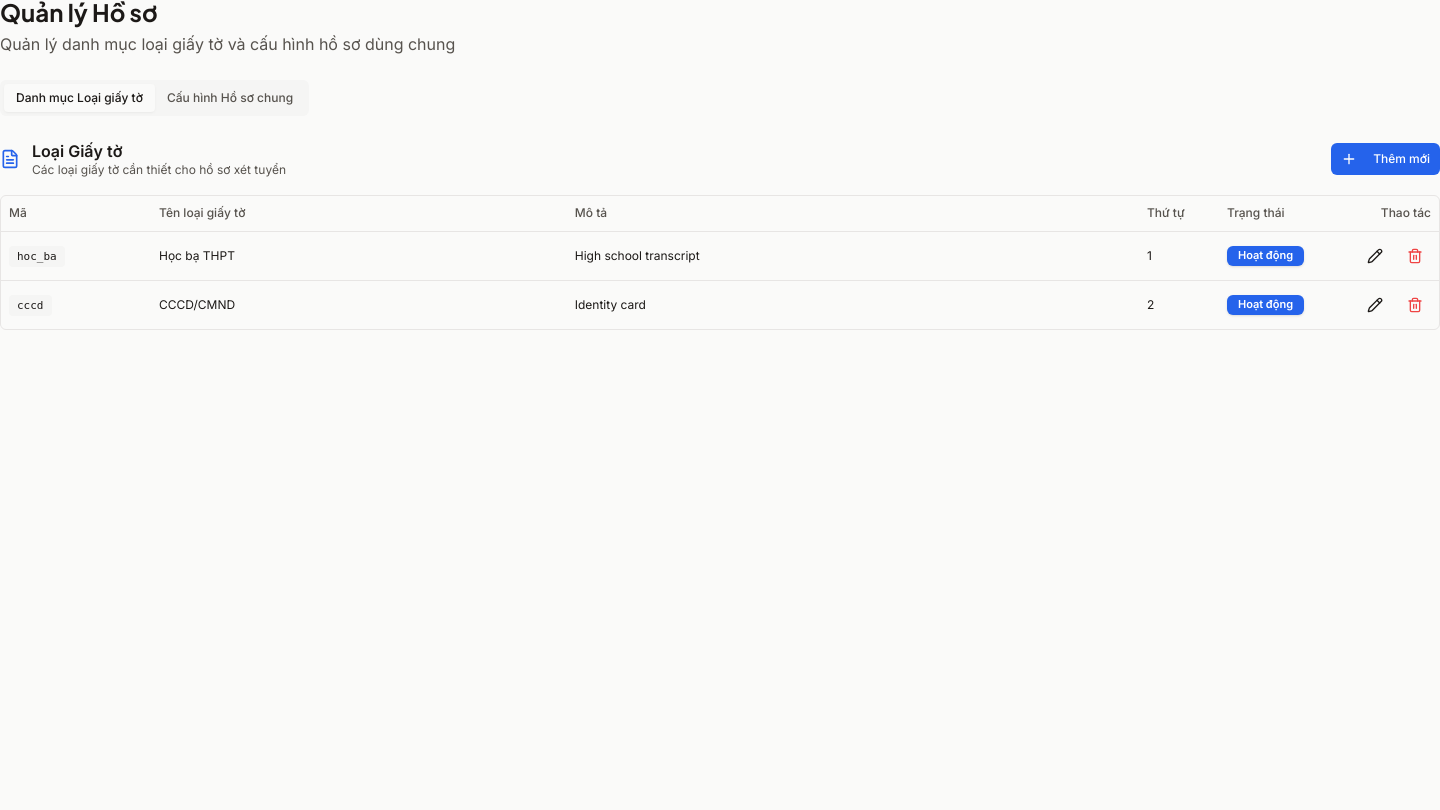
Test: DocumentTypePanel › should open edit dialog and populate data correctly
Edit "Học bạ THPT" (Row 1)
Click the button named "Chỉnh sửa" in the row of "hoc_ba": x=1375, y=256 [1359, 240, 1391, 272]
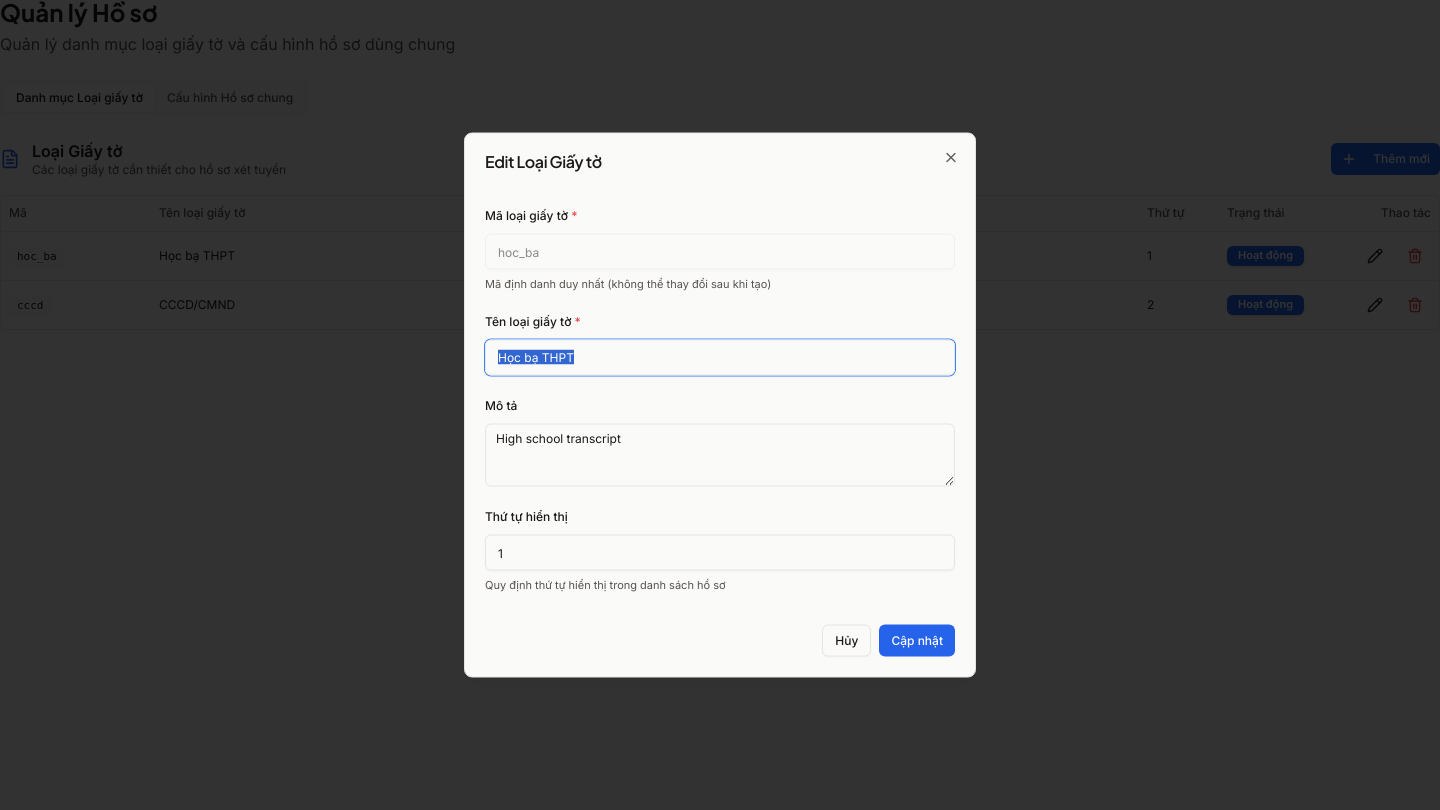
Now the dialog is shown, box [464, 132, 976, 678]
Now the field labelled "Mã loại giấy tờ *" holds "hoc_ba", box [485, 234, 955, 270]
Now the field labelled "Mã loại giấy tờ *" is disabled, box [485, 234, 955, 270]
